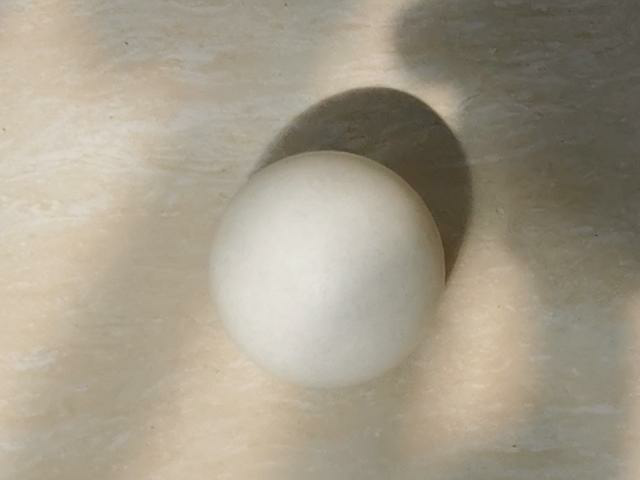ball: (211, 150, 446, 390)
